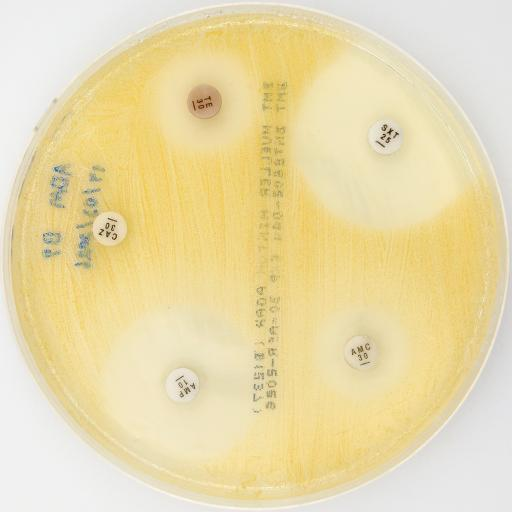disc: (368, 119, 404, 155), (92, 210, 128, 246), (187, 83, 222, 119), (344, 335, 379, 371), (166, 368, 200, 404)
